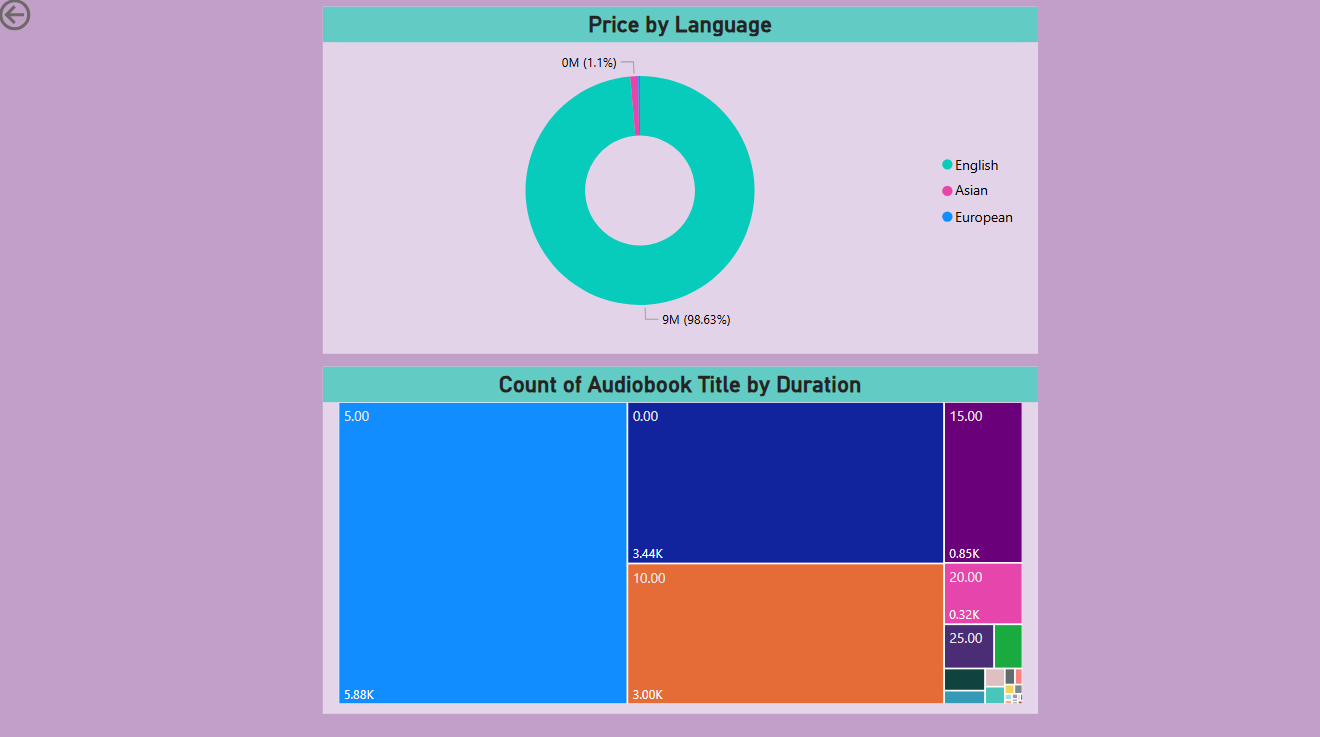

The page's visual inventory and layout, read from the dashboard file:
{"tool":"powerbi","page":{"name":"Audiobook(Drillthrough)","canvas":[1280,720],"ordinal":1},"visuals":[{"type":"treemap","title":"Count of Audiobook Title by Duration","fields":{"Values":["CountNonNull(audible_cleaned1.Audiobook Title)"],"Group":["audible_cleaned1.Duration (bins)"]},"box":[317.3,359.5,690.1,335.4],"z":0},{"type":"actionButton","box":[0,0,100,40],"z":1000},{"type":"donutChart","title":"Price by Language","fields":{"Category":["audible_cleaned1.Language (groups)"],"Y":["Sum(audible_cleaned1.Price)"]},"box":[317.3,12.1,690.1,335.4],"z":2000}]}

Visuals, with their boxes in screenshot pixels (x1, y1, x2, y2), scaled from the page's 1280x720 canvas onto the 1320x737 screenshot:
"Count of Audiobook Title by Duration" treemap: <box>327,368,1039,711</box>
actionButton: <box>0,0,103,41</box>
"Price by Language" donutChart: <box>327,12,1039,356</box>
